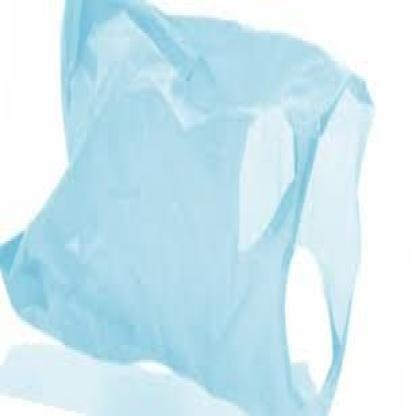trash: (0, 0, 370, 415)
